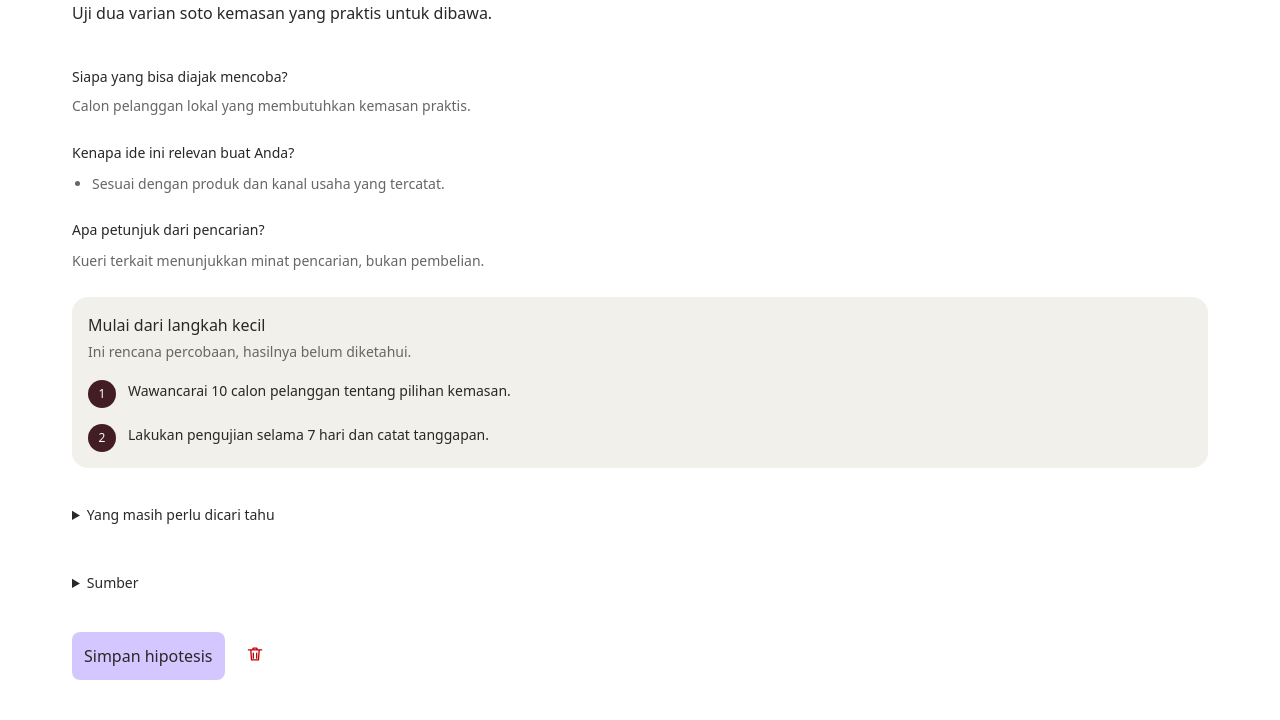
Test: PrivateOpportunityFinder timeout state › keeps the hypothesis when deletion is cancelled
(page scrolled)
What coordinates should you click on to do the following:
click the button named "Hapus hipotesis: Uji kemasan soto"
I would click on:
 (254, 654)
Its box is [232,632,276,676].
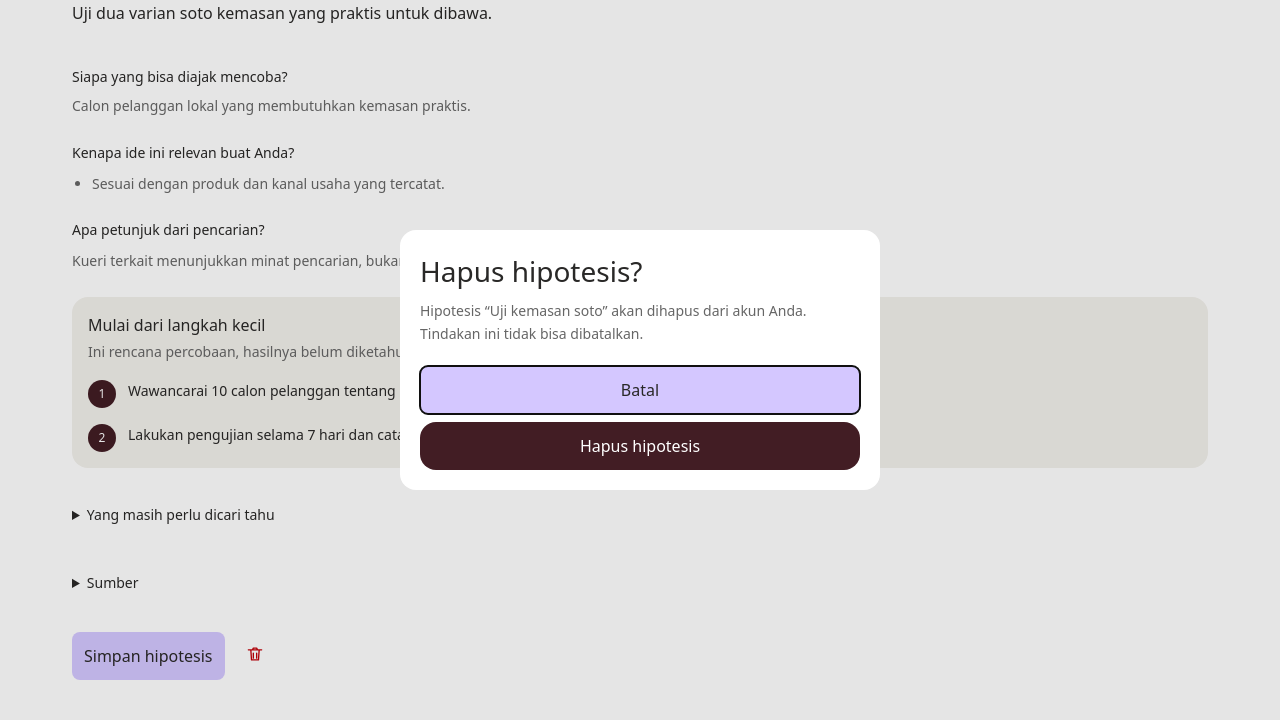
expect the dialog is shown: met, box [400,230,880,490]
What coordinates should you click on to do the following:
click the button "Batal"
I would click on:
 (640, 390)
Its box is [420,366,860,414].
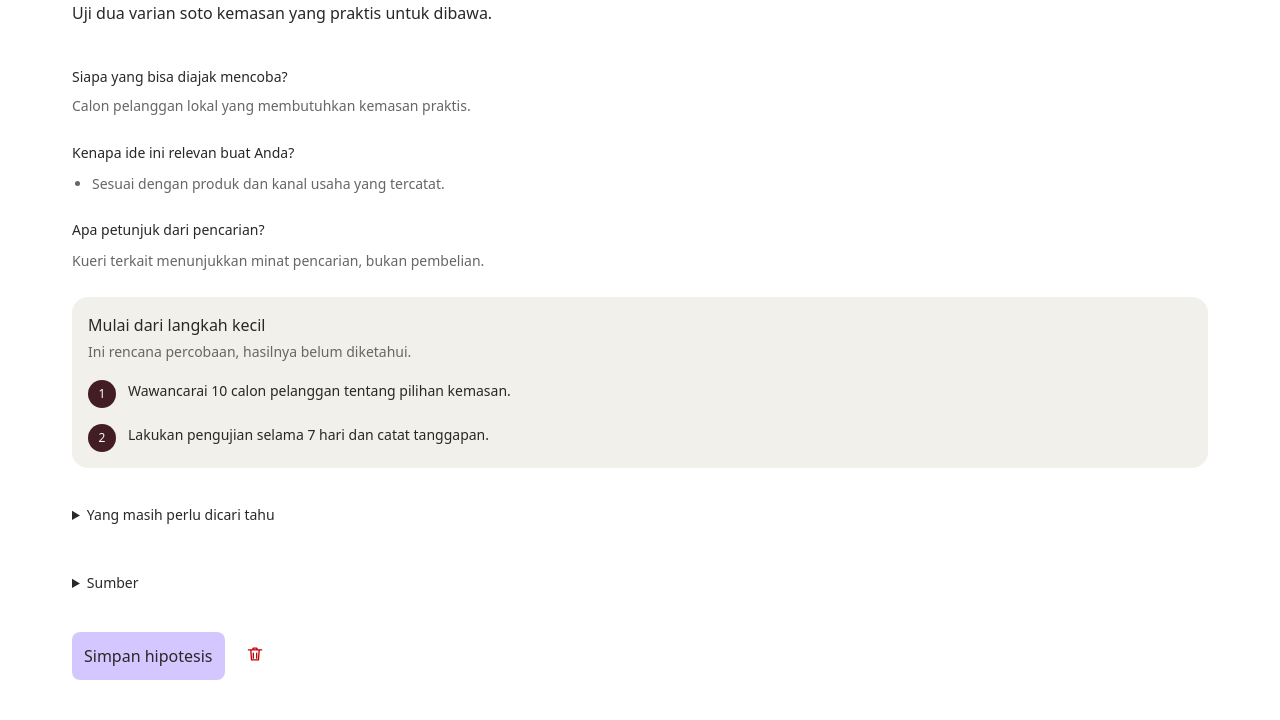
expect the text "Uji dua varian soto kemasan yang praktis untuk dibawa." is shown: met, box [72,2,492,24]
expect the dialog is gone: met
